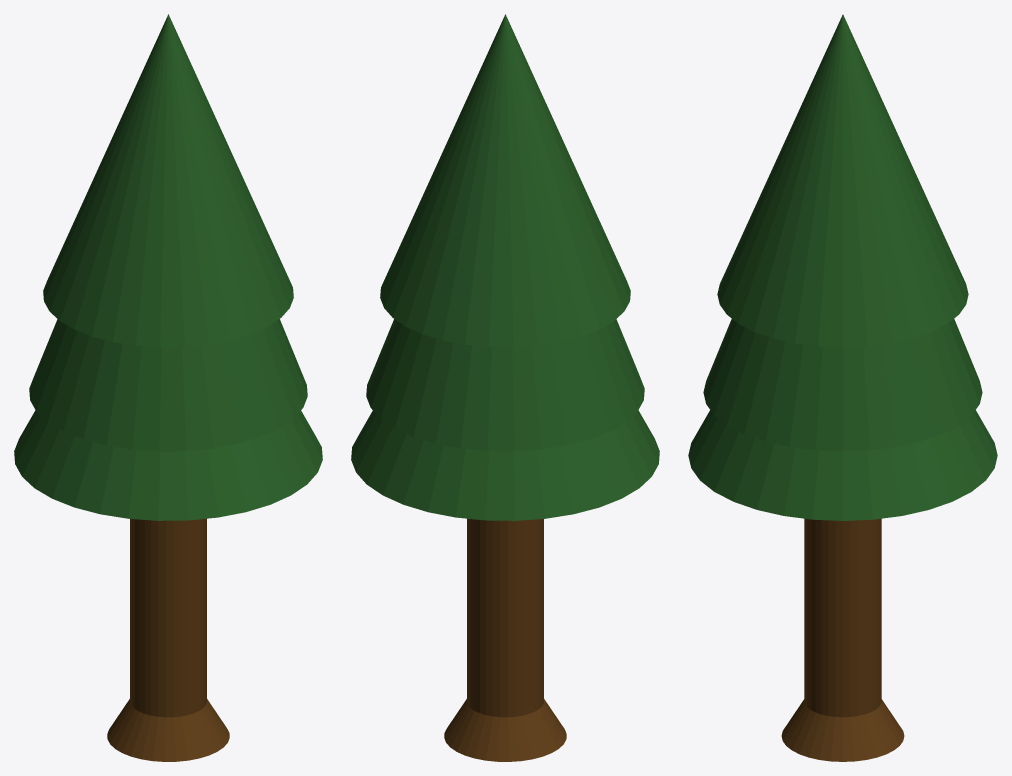
The model's file is Little Tree.glb.
3 views of the same model, side by side, from view 1: azimuth 30°, elevation 25°; view 2: azimuth 150°, elevation 25°; view 3: azimuth 270°, elevation 25° (orthographic).
Visible parts, largest first — view 1: Little Tree; view 2: Little Tree; view 3: Little Tree.
Boxes of the visible parts, <box> form: Little Tree: <box>14,14,322,761</box>; Little Tree: <box>351,14,659,761</box>; Little Tree: <box>688,14,997,761</box>.
Bounding box in the file's own units: 2 × 5.15 × 2.
